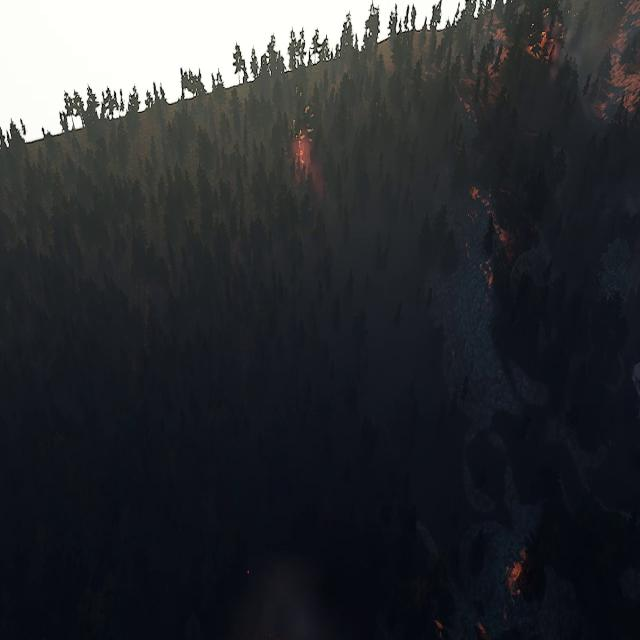fire: (294, 127, 316, 186)
